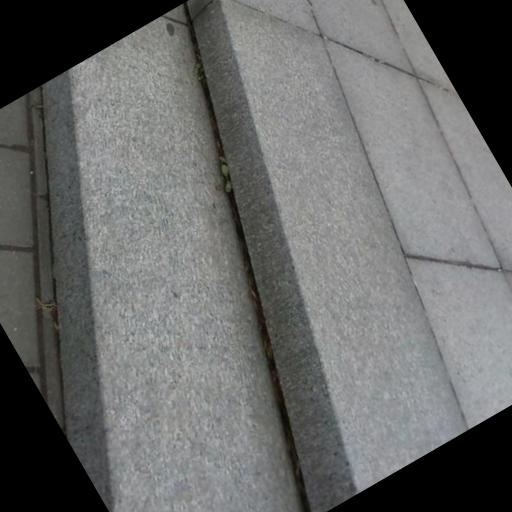stairs: (193, 0, 466, 511), (43, 17, 302, 511)
